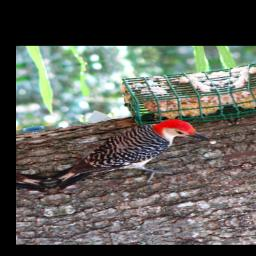Woodpecker: (37, 114, 226, 198)
